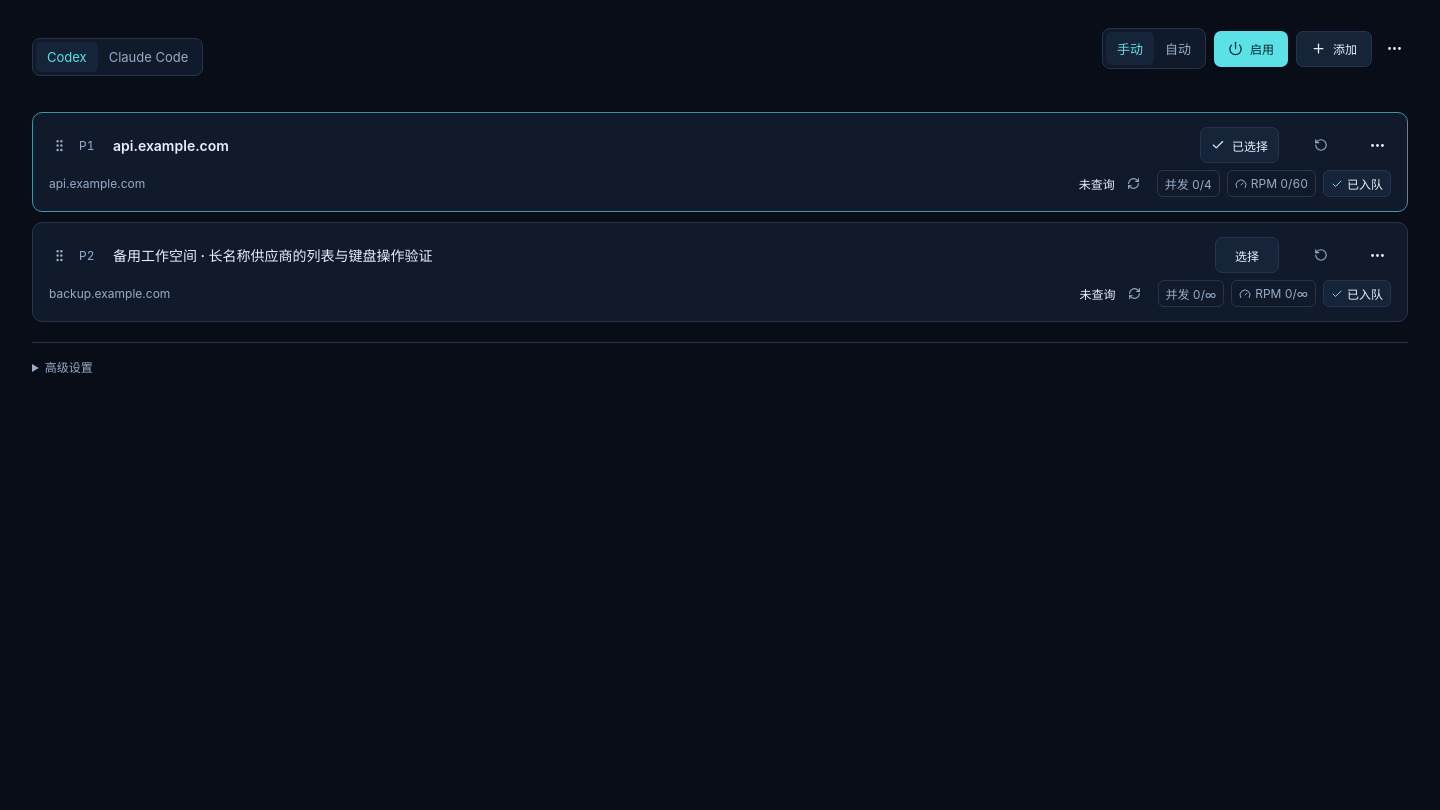
Test: gateway controls › keeps a failed provider draft open with its error
Click the button "添加" at (1334, 48), box [1296,30,1372,66]
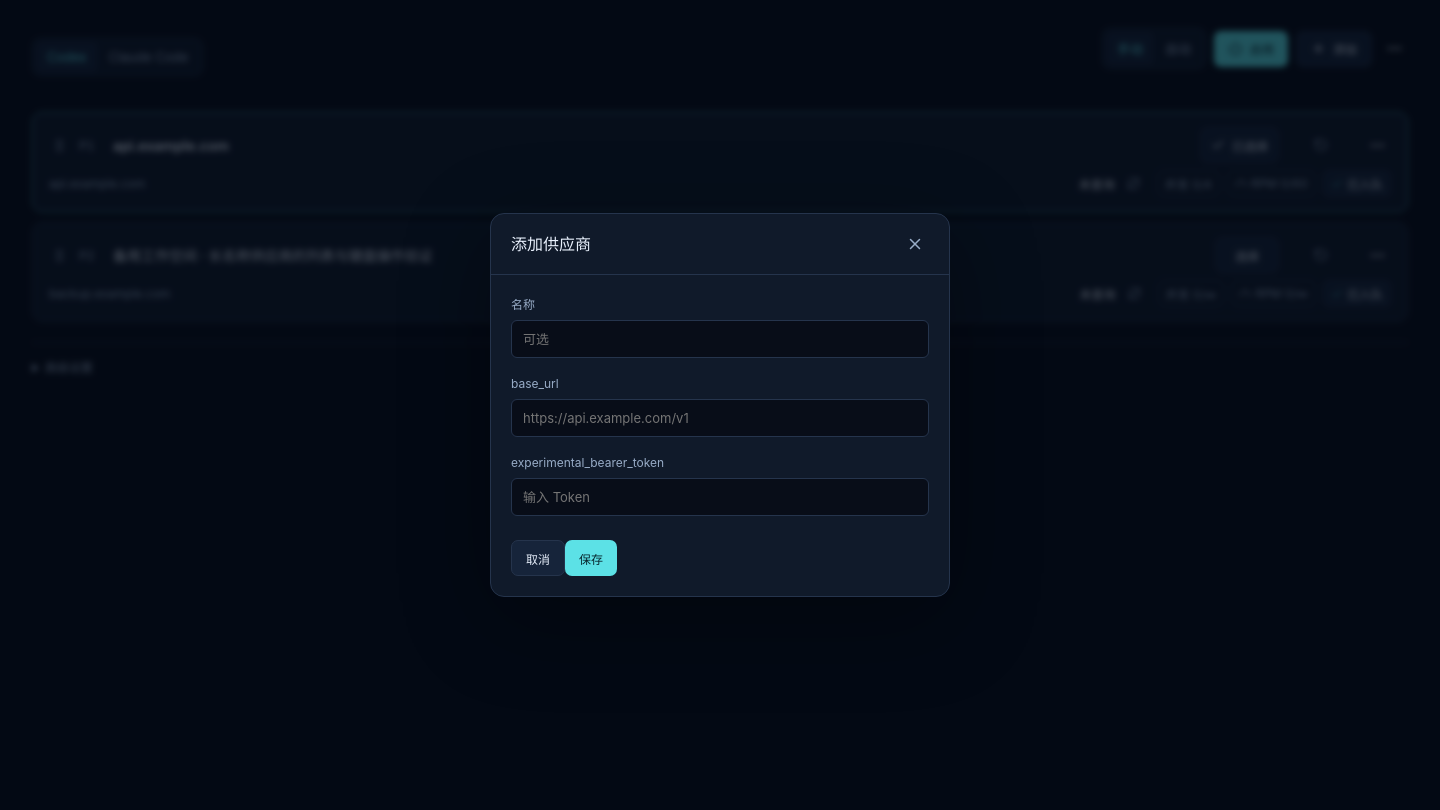
Type "http://127.0.0.1:15722/v1" into the field labelled "base_url" at (720, 418), box [511,399,929,437]
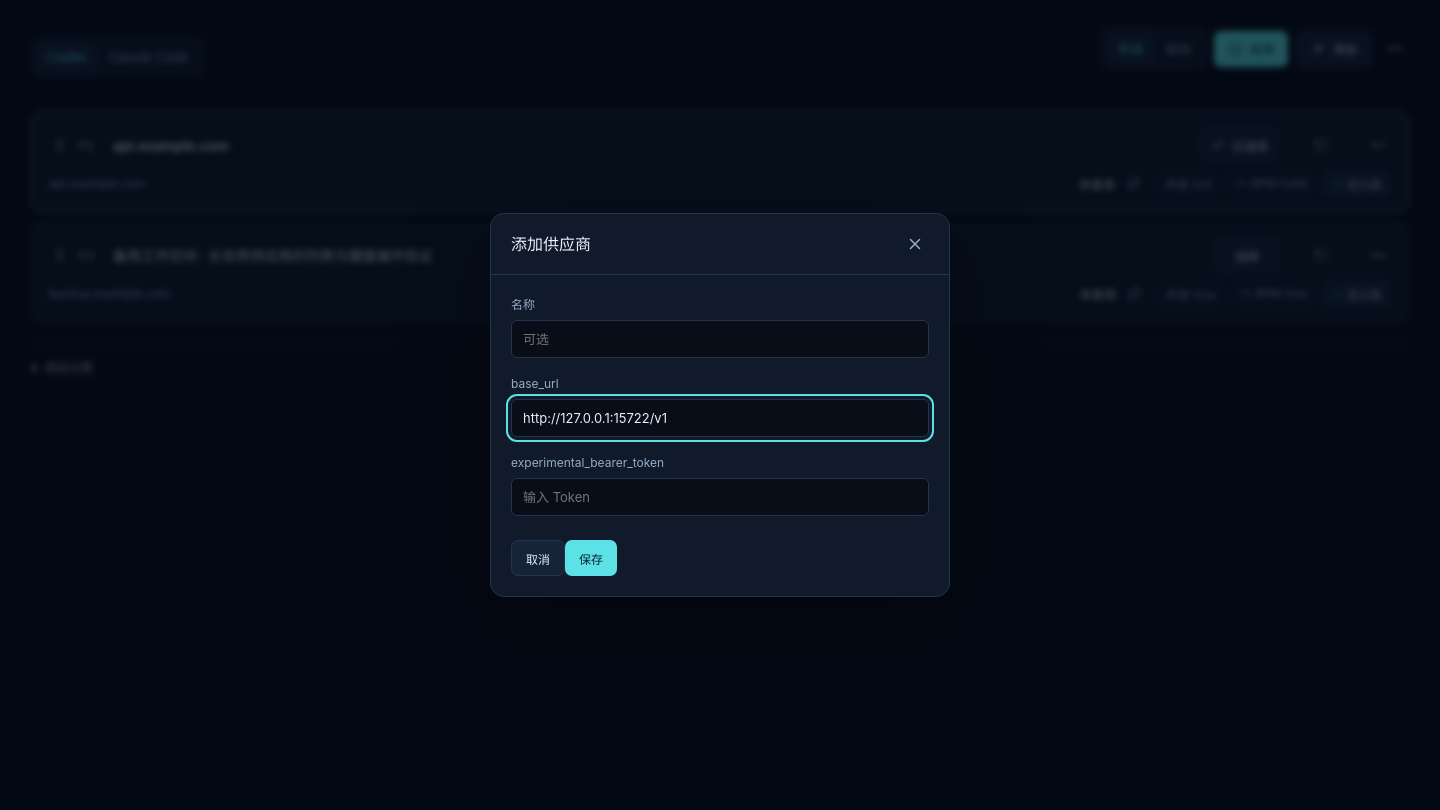
Type "fixture" into the password field labelled "experimental_bearer_token" at (720, 497), box [511,478,929,516]
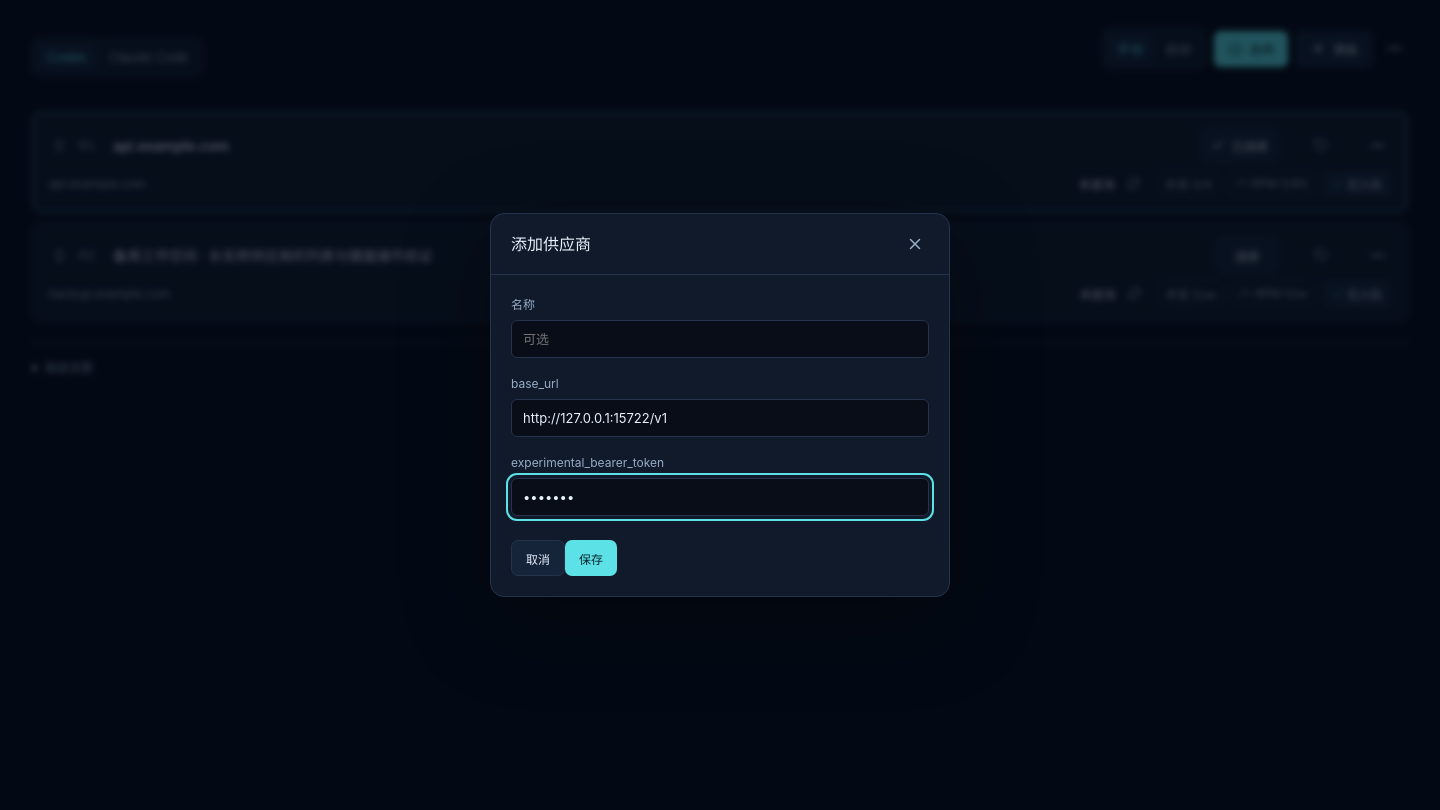
Click the button "保存" at (591, 558), box [565,540,617,576]
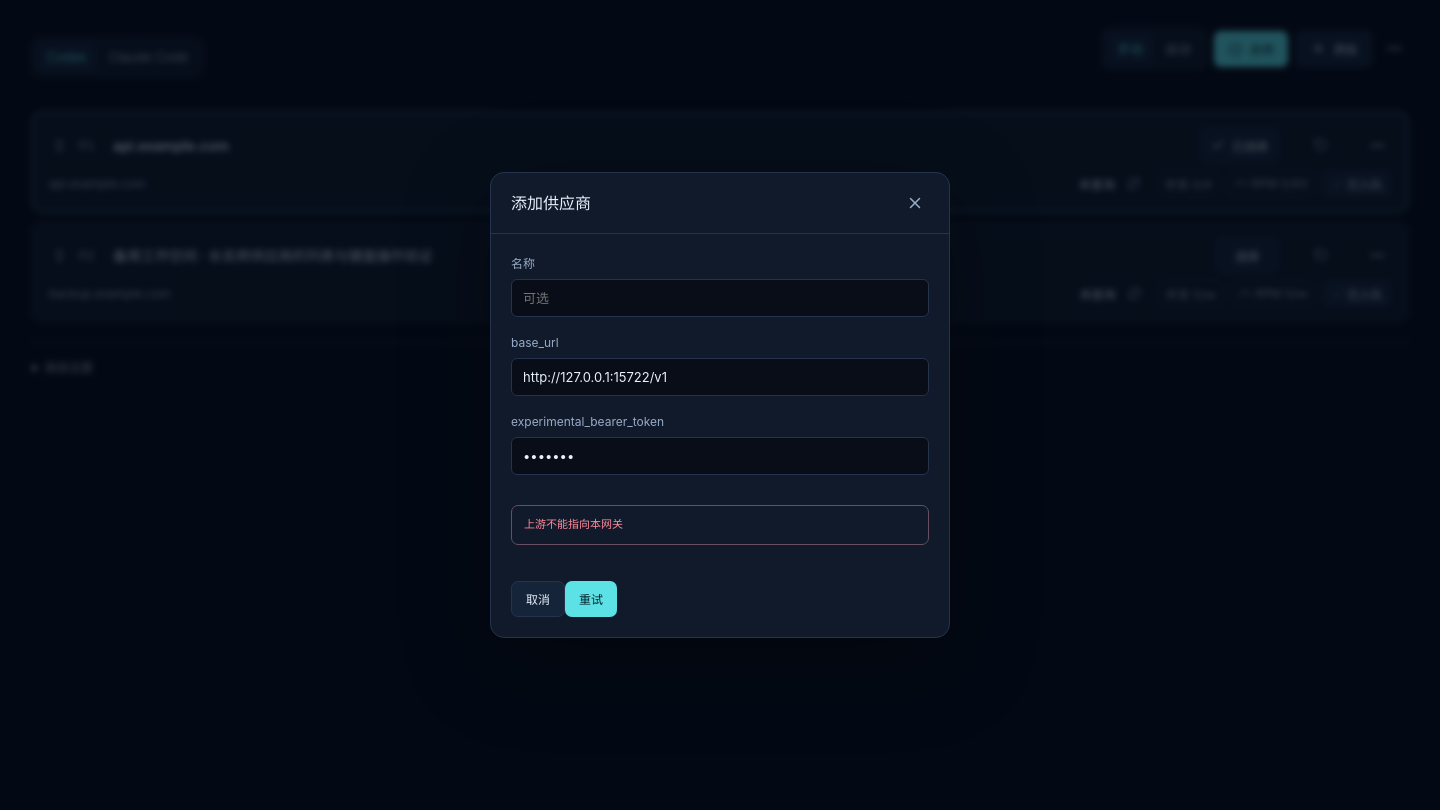
Now the message reads "上游不能指向本网关", box [524,517,623,531]
